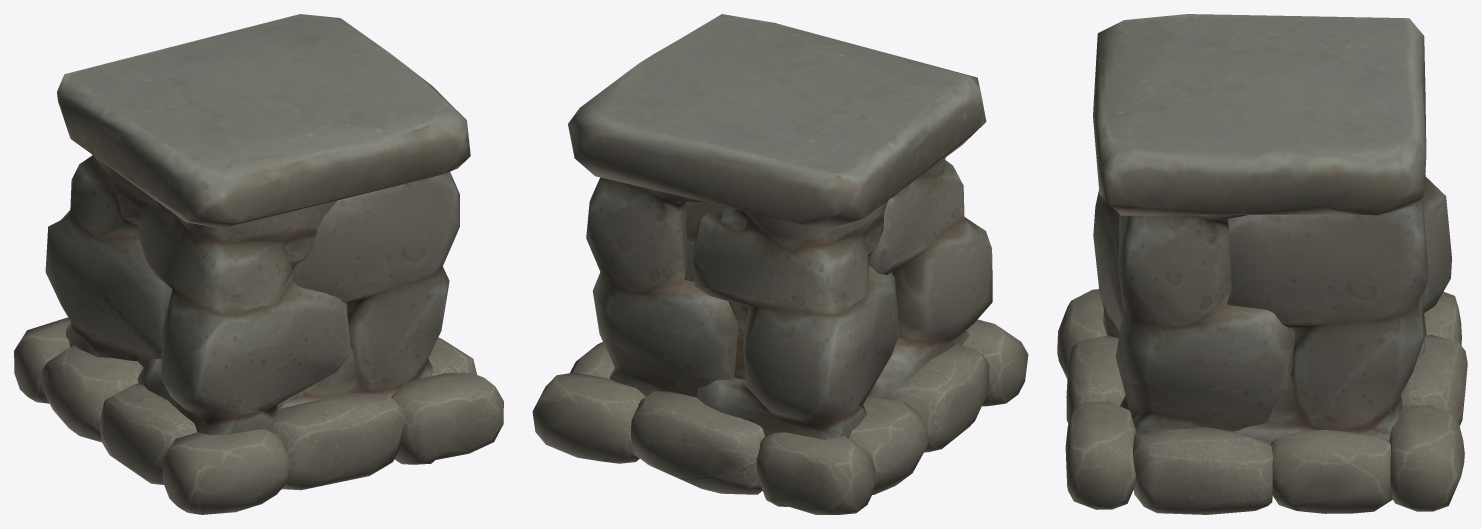
The model's file is SM_FW01_Ruins_Int_Trim_B_Corner_01.fbx.
3 views of the same model, side by side, from view 1: azimuth 30°, elevation 25°; view 2: azimuth 150°, elevation 25°; view 3: azimuth 270°, elevation 25° (orthographic). The views are drawn at different scales.
Parts seen in each view (by area): view 1: SM_FW01_Ruins_Int_Trim_B_Corner_01_LOD0; view 2: SM_FW01_Ruins_Int_Trim_B_Corner_01_LOD0, SM_FW01_Ruins_Int_Trim_B_Corner_01; view 3: SM_FW01_Ruins_Int_Trim_B_Corner_01_LOD0.
Boxes of the visible parts, left/top/right/bottom form: SM_FW01_Ruins_Int_Trim_B_Corner_01_LOD0: left=14, top=14, right=503, bottom=514; SM_FW01_Ruins_Int_Trim_B_Corner_01_LOD0: left=532, top=14, right=1028, bottom=514; SM_FW01_Ruins_Int_Trim_B_Corner_01: left=616, top=201, right=892, bottom=379; SM_FW01_Ruins_Int_Trim_B_Corner_01_LOD0: left=1057, top=14, right=1467, bottom=514.
Size of what is drawn, in the model's own units: 1.69 by 1.6 by 1.67.
